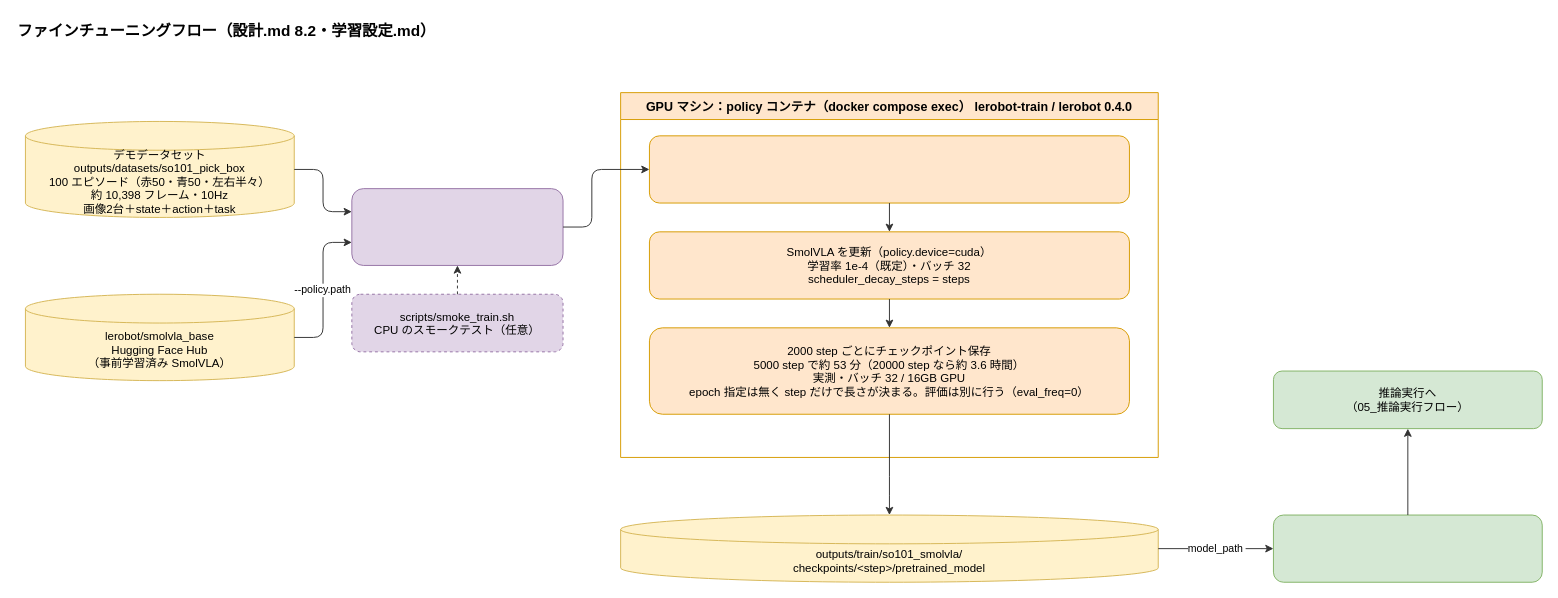
The diagram is 1558 pixels wide and 598 high, and some of its shapes have lost their labels. Each missing label, with the centre of its shape:
"config/policy_finetuned.yaml model_path を差し替え・norm_stats: null" goes at pixel 1407 548.
"scripts/train.sh [デモデータセット] [出力名] [steps=5000（既定 20000）] [batch=32]" goes at pixel 457 226.
"デモデータセットの読込 pyav で動画デコード（num_workers=4） --rename_map で camera3 欠落を回避" goes at pixel 888 169.
